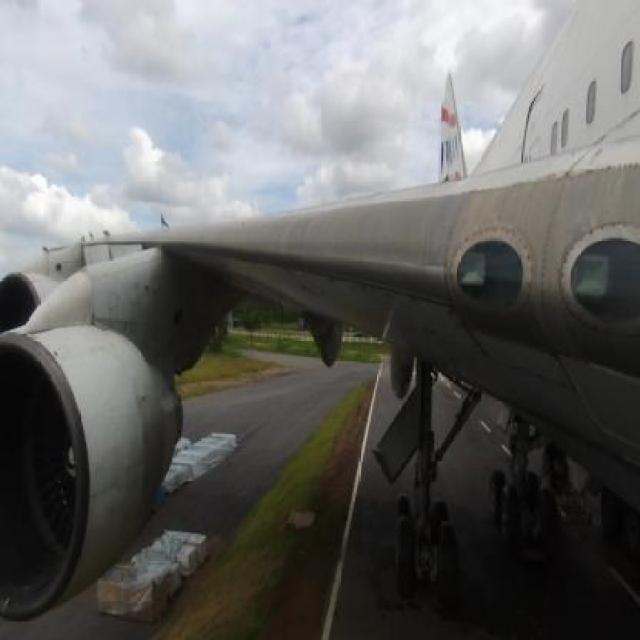Scartch: (283, 268, 451, 352)
